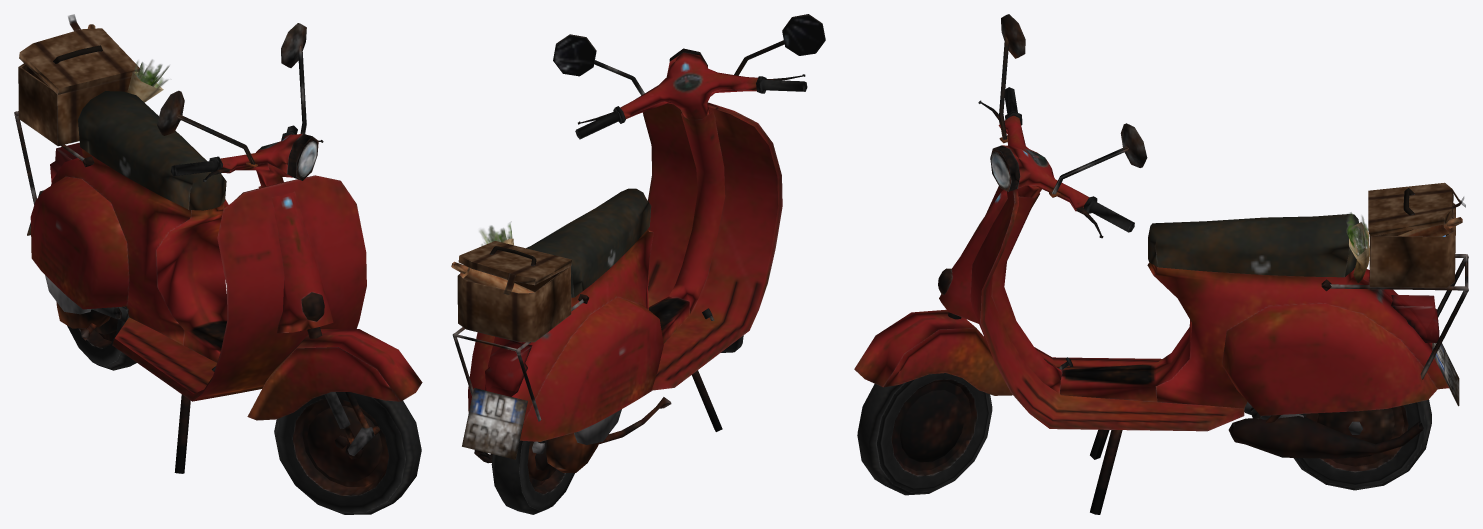
Rendered from old-scooter-5e9b50.glb.
3 views of the same model, side by side, from view 1: azimuth 30°, elevation 25°; view 2: azimuth 150°, elevation 25°; view 3: azimuth 270°, elevation 25° (orthographic). The views are drawn at different scales.
Visible parts, largest first — view 1: PropMesh; view 2: PropMesh; view 3: PropMesh.
Boxes of the visible parts, x1=… form: PropMesh: x1=14, y1=14, x2=422, y2=514; PropMesh: x1=451, y1=14, x2=825, y2=514; PropMesh: x1=854, y1=14, x2=1468, y2=514.
Bounding box in the file's own units: 0.7332 × 1.35 × 1.8.
1 material, 1 textured.
